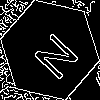N: (25, 25, 81, 82)
